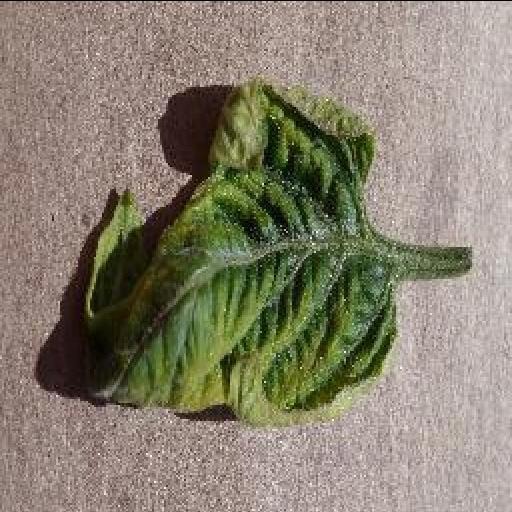disease_tomato: (70, 76, 404, 434)
